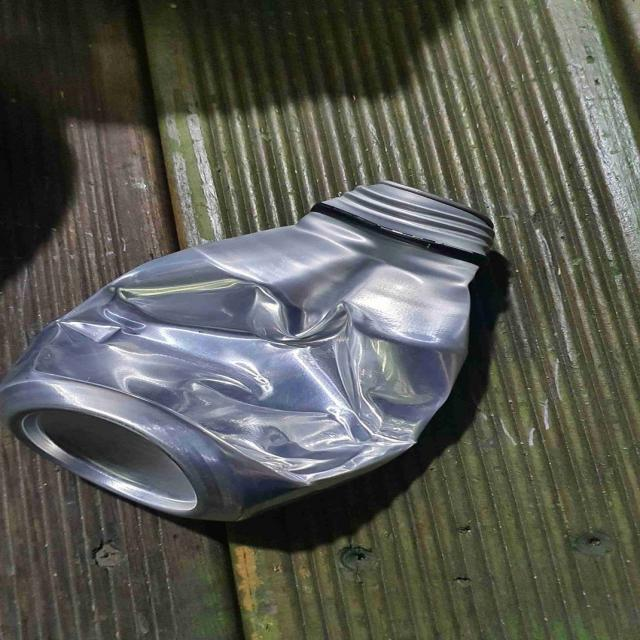kimloai: (1, 182, 492, 520)
